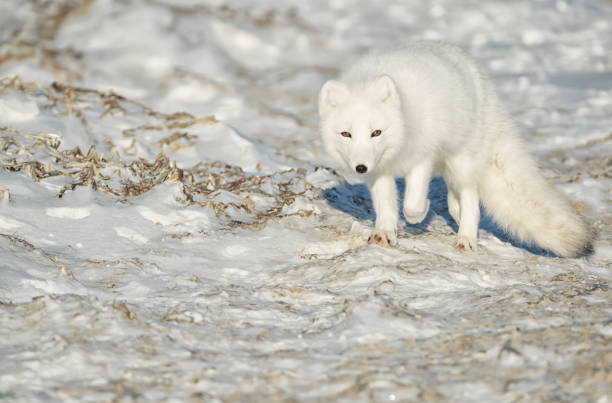arcticfox: (328, 104, 411, 190)
